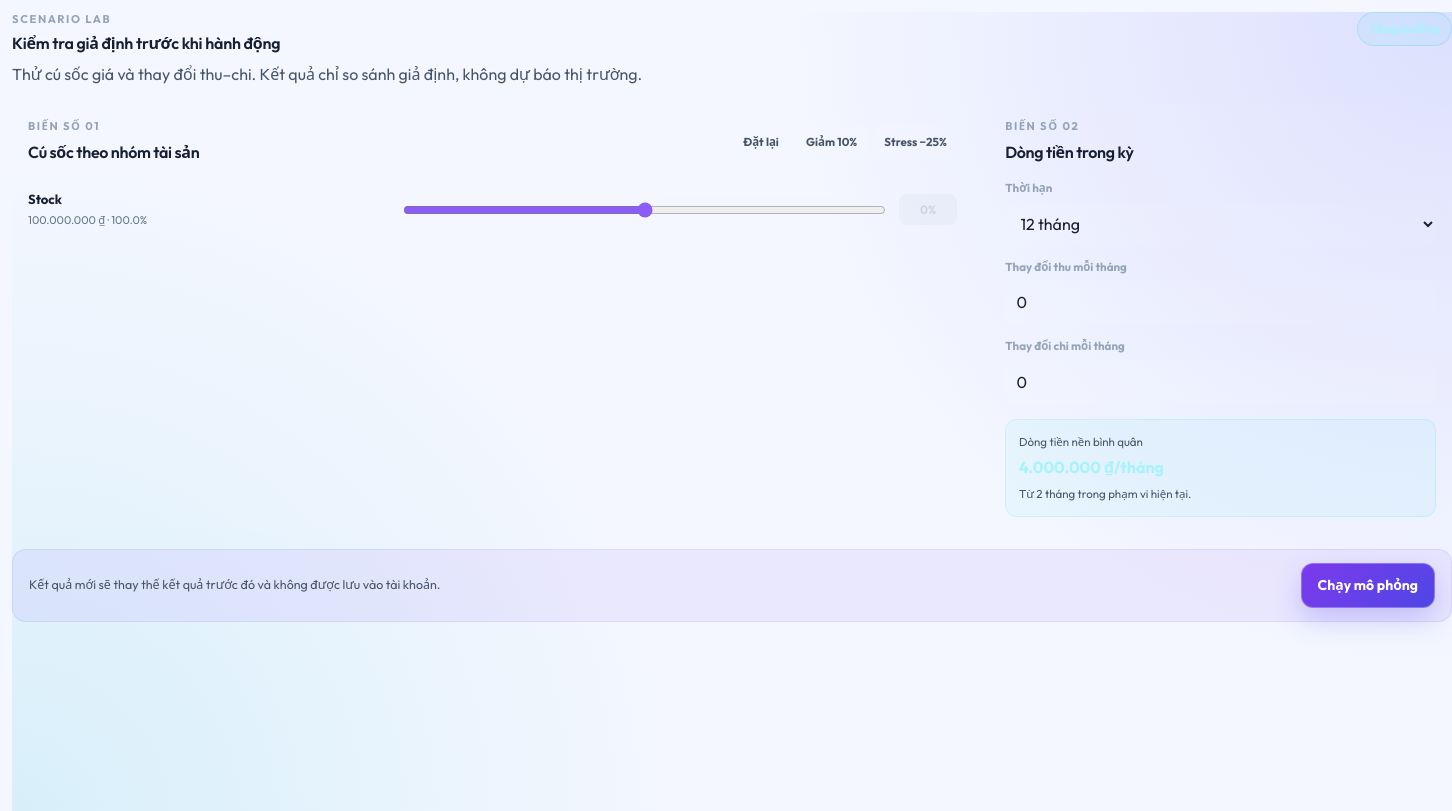
Scenario: ScenarioLab › submits the selected scope and renders explainable results
The image size is (1452, 811).
Click the button "Giảm 10%".
click(832, 142)  # box [796,124,868,160]
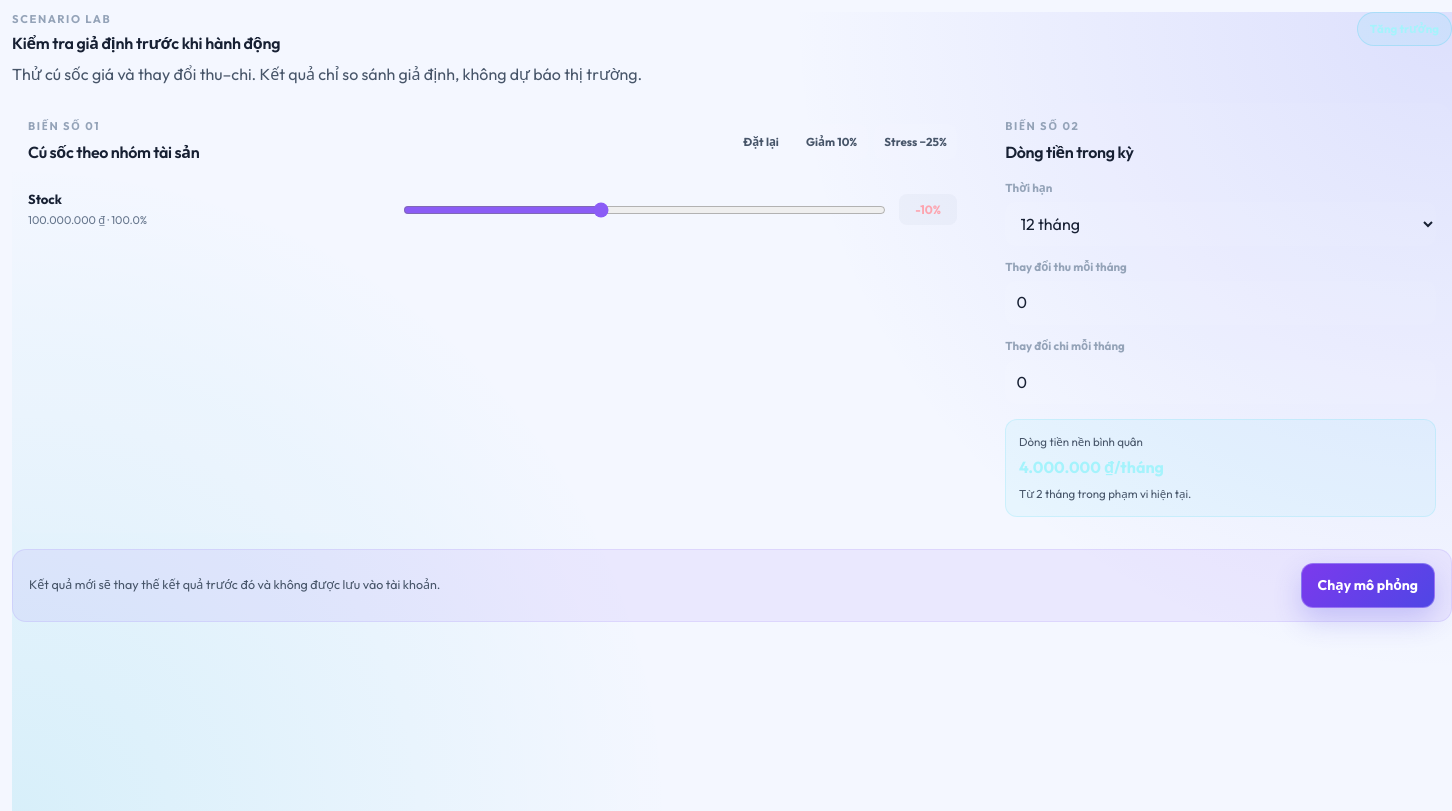
Click the button "Chạy mô phỏng".
click(1368, 585)  # box [1301,563,1435,608]
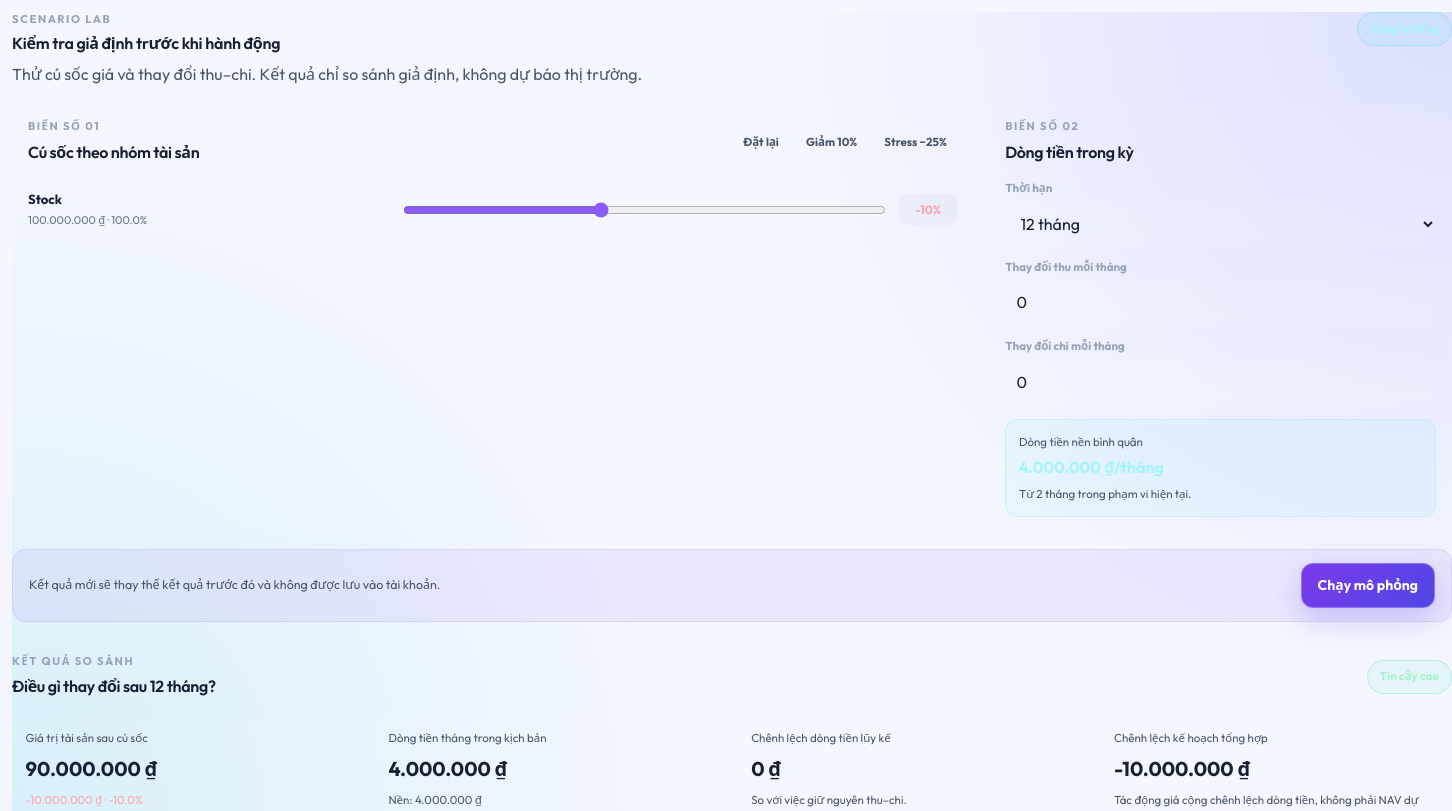
Expected: the heading "Điều gì thay đổi sau 12 tháng?" is shown, [12,674,216,700]
Expected: the text "Tin cậy cao" is shown, [1367,660,1451,694]
